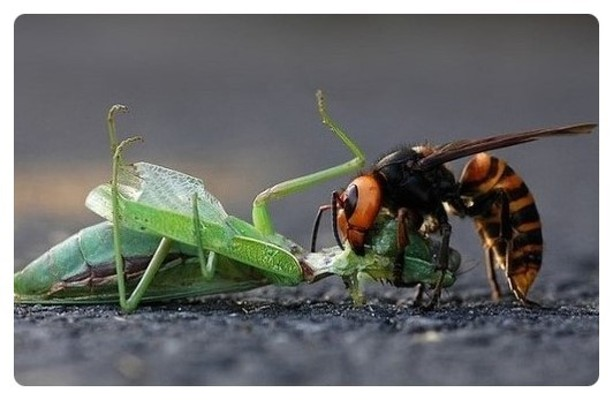asian_giant_hornet: (308, 120, 597, 299)
